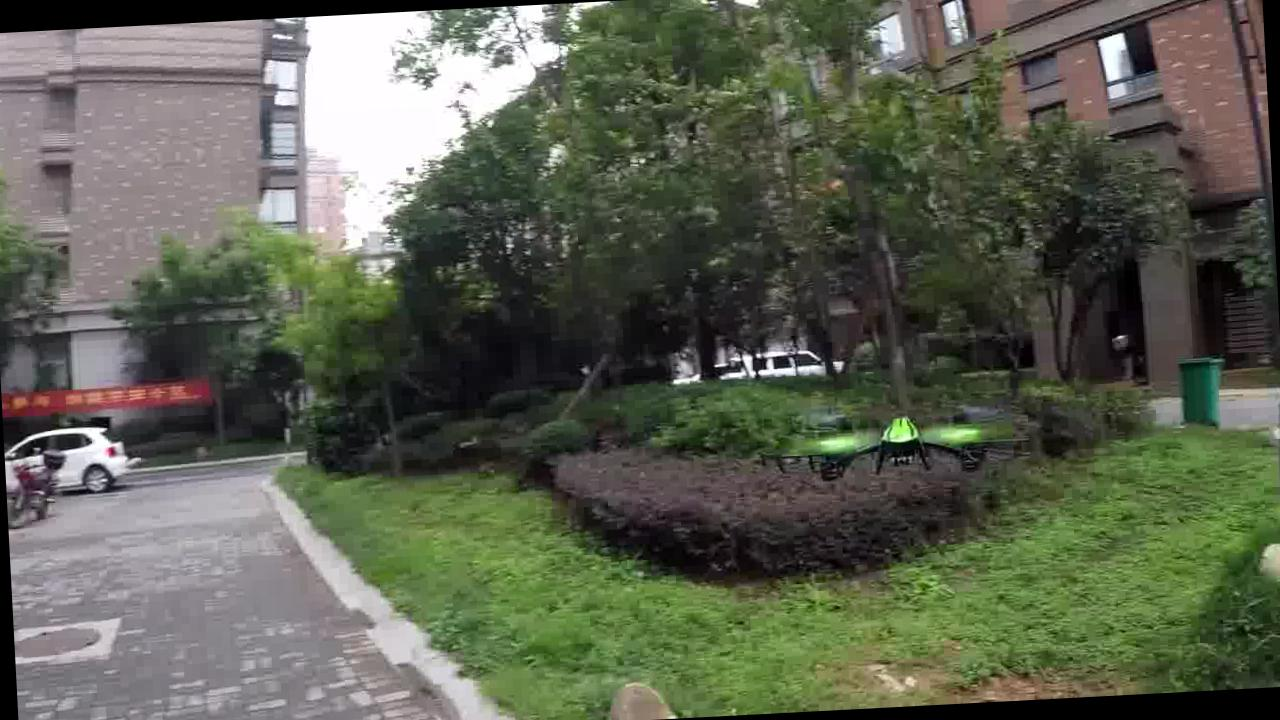drone: (770, 406, 1020, 488)
